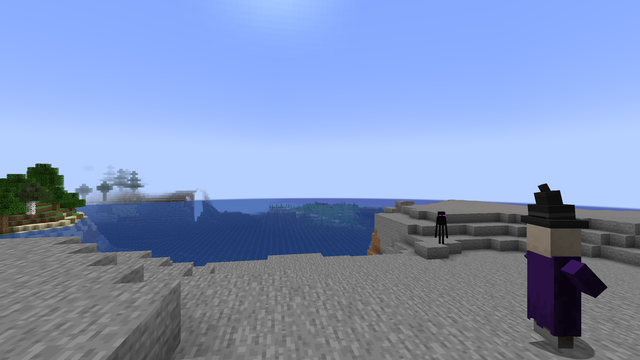endermens: (436, 210, 446, 244)
sorcieres: (519, 217, 588, 352)
